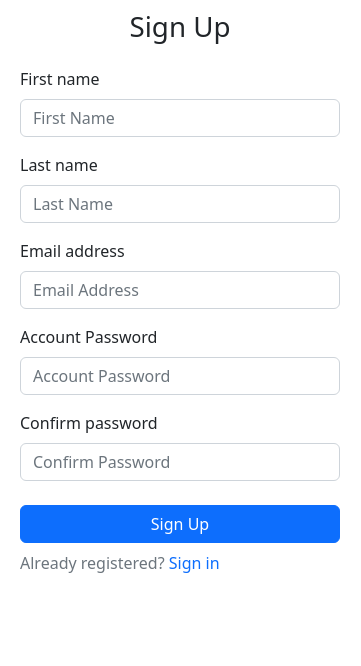
Test: Testing SignUp component › Testing when everything is done correctly it should shows 'Your account successfully created'
The width and height of the screenshot is (361, 666).
Type "Test" into the field with placeholder "First name" at [180, 118], box [20, 99, 340, 137]
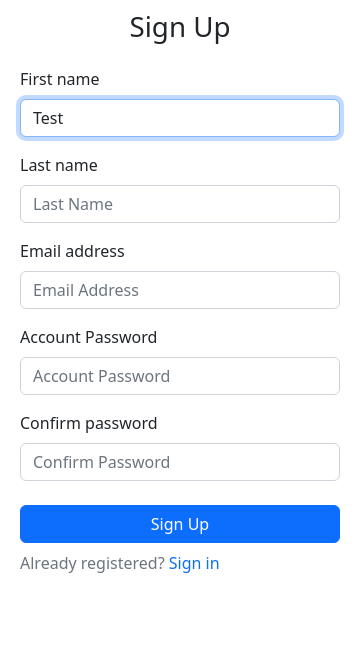
Type "Test" into the field with placeholder "Last name" at [180, 204], box [20, 185, 340, 223]
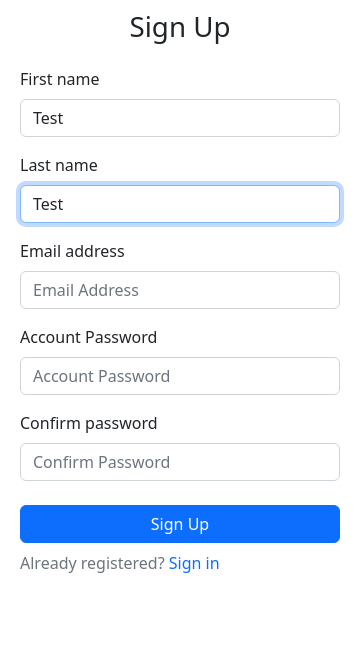
Type "testtest@email.com" into the field with placeholder "Email address" at [180, 290], box [20, 271, 340, 309]
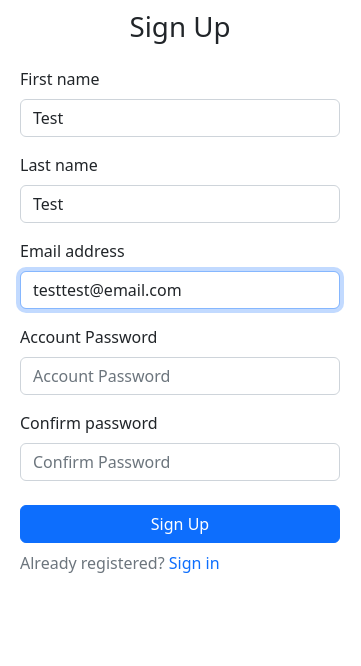
Type "Q1!wasdf" into the password field with placeholder "Account Password" at [180, 376], box [20, 357, 340, 395]
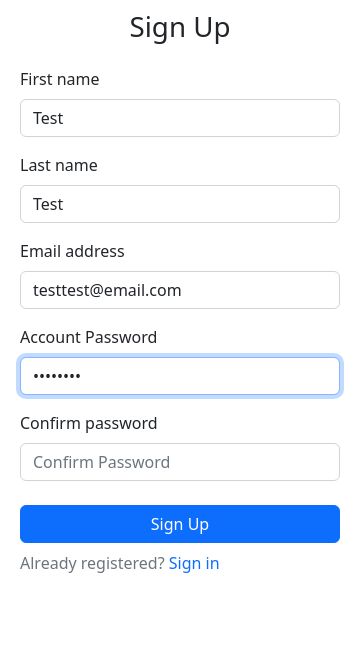
Type "Q1!wasdf" into the password field with placeholder "Confirm password" at [180, 462], box [20, 443, 340, 481]
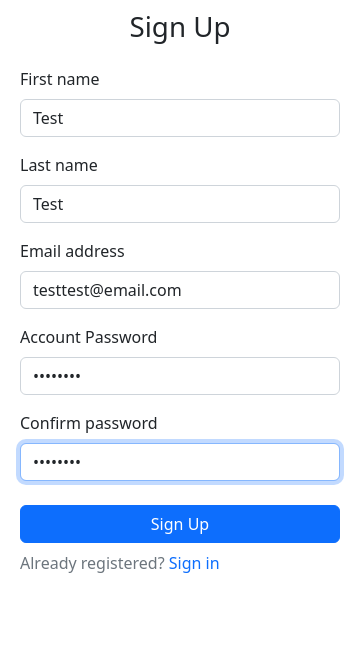
Click the button "Sign Up" at [180, 524], box [20, 505, 340, 543]
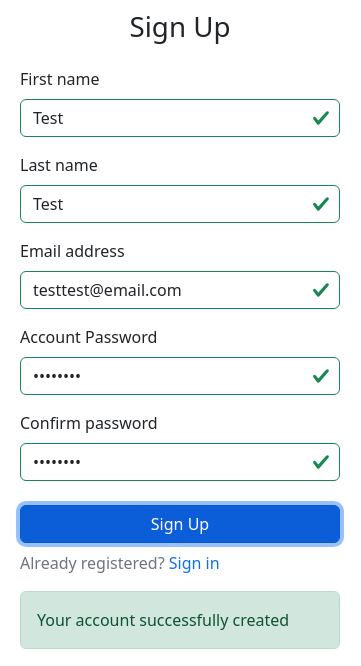
Now the text "Your account successfully created" is shown, box [20, 591, 340, 649]
